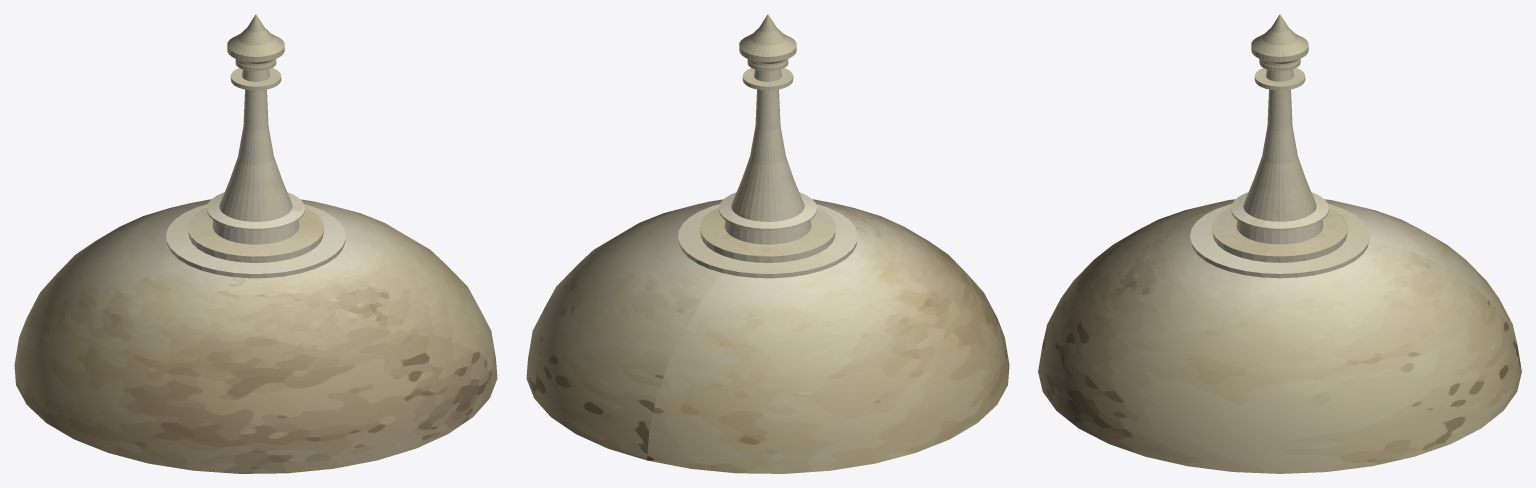
Rendered from Dome_1.FBX.
3 views of the same model, side by side, from view 1: azimuth 30°, elevation 25°; view 2: azimuth 150°, elevation 25°; view 3: azimuth 270°, elevation 25° (orthographic).
Parts seen in each view (by area): view 1: Sphere001; view 2: Sphere001; view 3: Sphere001.
Boxes of the visible parts, x1,y1,x2,y2 form: Sphere001: (14, 14, 497, 473); Sphere001: (526, 14, 1009, 473); Sphere001: (1038, 14, 1521, 473).
Bounding box in the file's own units: 342 × 279 × 342.
